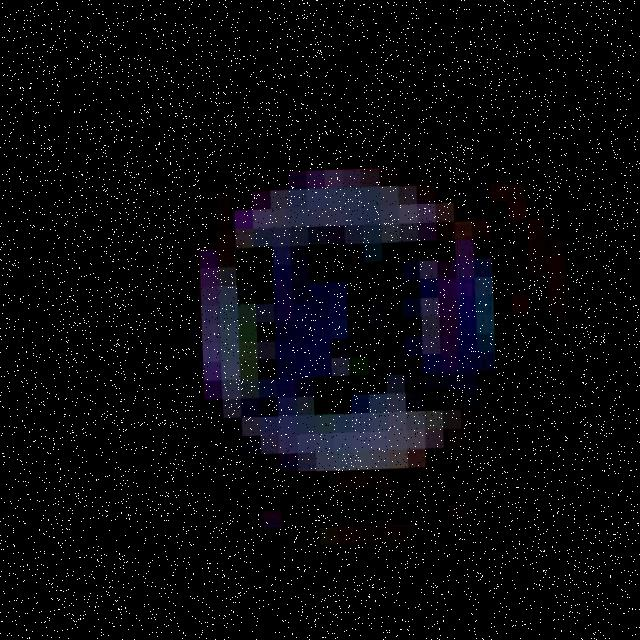Ograniczenie predkosci do 100: (141, 109, 556, 536)
